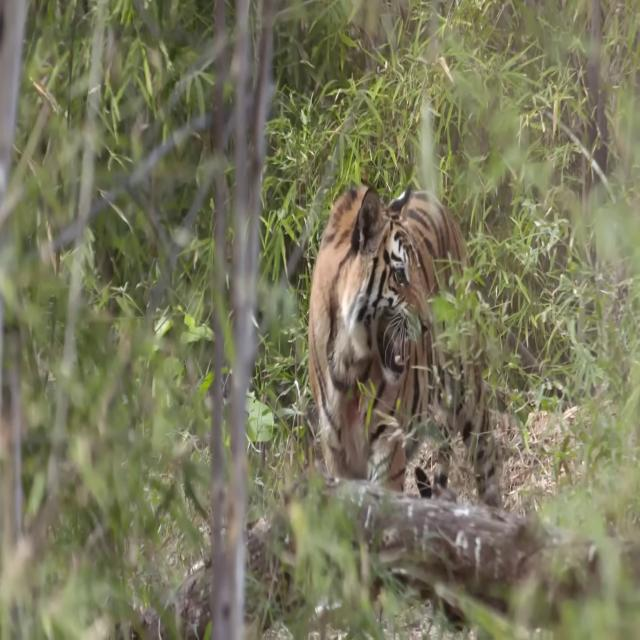tiger: (308, 177, 504, 510)
